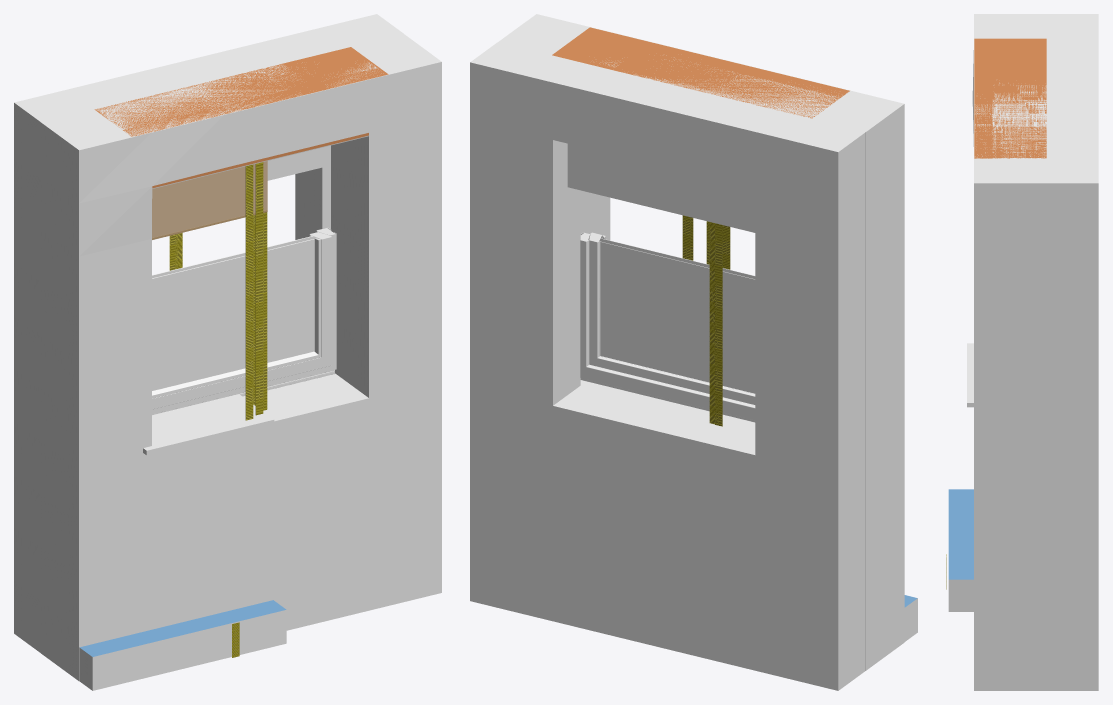
The model's file is Wall1.glb.
3 views of the same model, side by side, from view 1: azimuth 30°, elevation 25°; view 2: azimuth 150°, elevation 25°; view 3: azimuth 270°, elevation 25° (orthographic). The views are drawn at different scales.
Visible parts, largest first — view 1: mauer_neu_boden_ohne, mauer_neu_bruestung_ohne, mauer_neu_bruestung_mit, mauer_neu_boden_mit, dg_neu_bruestung, fenster-Glas, rks-red, dg_neu_boden, fenster-plastic, fussboden_neu-estrich, altkasten-holz2, al_alt_boden (+12 smaller); view 2: dg_neu_bruestung, dg_neu_boden, mauer_neu_boden_ohne, fenster-Glas, al_alt_boden, rks-red, al_alt_bruestung, fenster-plastic, il_alt_boden_ohne, mauer_neu_bruestung_ohne, mauer_neu_bruestung_mit, bandmass_alt_bodentief_al (+5 smaller); view 3: dg_neu_boden, il_alt_bruestung_mit, mauer_neu_boden_mit, rks-red, dg_neu_bruestung, al_alt_boden, il_alt_boden_ohne, fussboden_neu-fliesen, il_alt_bruestung_ohne, il_alt_boden_mit, mauer_neu_boden_ohne, mauer_neu_bruestung_mit (+4 smaller).
Boxes of the visible parts, left/top/right/bottom form: mauer_neu_boden_ohne: left=41, top=51, right=441, bottom=680; mauer_neu_bruestung_ohne: left=46, top=59, right=441, bottom=630; mauer_neu_bruestung_mit: left=47, top=50, right=441, bottom=647; mauer_neu_boden_mit: left=79, top=34, right=441, bottom=646; dg_neu_bruestung: left=14, top=14, right=402, bottom=652; fenster-Glas: left=152, top=236, right=317, bottom=390; rks-red: left=94, top=47, right=388, bottom=188; dg_neu_boden: left=15, top=14, right=403, bottom=234; fenster-plastic: left=152, top=227, right=336, bottom=414; fussboden_neu-estrich: left=100, top=612, right=286, bottom=686; altkasten-holz2: left=152, top=161, right=267, bottom=237; al_alt_boden: left=31, top=25, right=392, bottom=180; dg_neu_bruestung: left=470, top=42, right=865, bottom=690; dg_neu_boden: left=470, top=43, right=852, bottom=690; mauer_neu_boden_ohne: left=517, top=14, right=904, bottom=670; fenster-Glas: left=600, top=238, right=755, bottom=393; al_alt_boden: left=485, top=42, right=864, bottom=232; rks-red: left=552, top=27, right=849, bottom=118; al_alt_bruestung: left=498, top=42, right=860, bottom=422; fenster-plastic: left=580, top=232, right=755, bottom=420; il_alt_boden_ohne: left=499, top=21, right=893, bottom=131; mauer_neu_bruestung_ohne: left=500, top=20, right=896, bottom=409; mauer_neu_bruestung_mit: left=514, top=15, right=903, bottom=670; bandmass_alt_bodentief_al: left=715, top=223, right=722, bottom=426; dg_neu_boden: left=1046, top=14, right=1098, bottom=690; il_alt_bruestung_mit: left=992, top=19, right=1046, bottom=690; mauer_neu_boden_mit: left=974, top=14, right=1046, bottom=690; rks-red: left=974, top=38, right=1046, bottom=158; dg_neu_bruestung: left=1046, top=14, right=1098, bottom=182; al_alt_boden: left=1047, top=14, right=1070, bottom=183; il_alt_boden_ohne: left=992, top=14, right=1046, bottom=183; fussboden_neu-fliesen: left=948, top=489, right=973, bottom=579; il_alt_bruestung_ohne: left=992, top=14, right=1046, bottom=182; il_alt_boden_mit: left=992, top=14, right=1046, bottom=182; mauer_neu_boden_ohne: left=972, top=14, right=1042, bottom=182; mauer_neu_bruestung_mit: left=974, top=14, right=1046, bottom=182.
Size of the model in its own units: 200 by 280 by 76.1.
38 materials, 1 textured.
